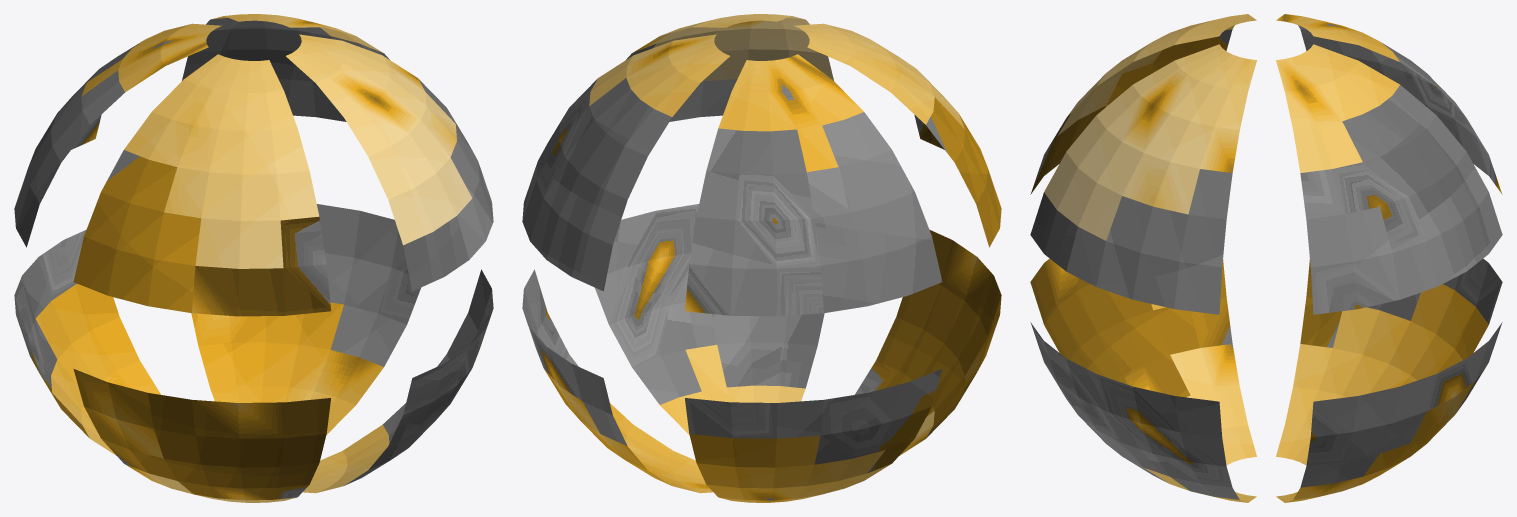
Rendered from boom.obj.
3 views of the same model, side by side, from view 1: azimuth 30°, elevation 25°; view 2: azimuth 150°, elevation 25°; view 3: azimuth 270°, elevation 25° (orthographic).
Parts seen in each view (by area): view 1: Sphere; view 2: Sphere; view 3: Sphere.
Part boxes in pixels (bbox=[...]): Sphere: bbox=[14, 14, 493, 502]; Sphere: bbox=[522, 14, 1001, 502]; Sphere: bbox=[1030, 14, 1502, 502].
Bounding box in the file's own units: 0.9618 × 0.9806 × 0.9618.
